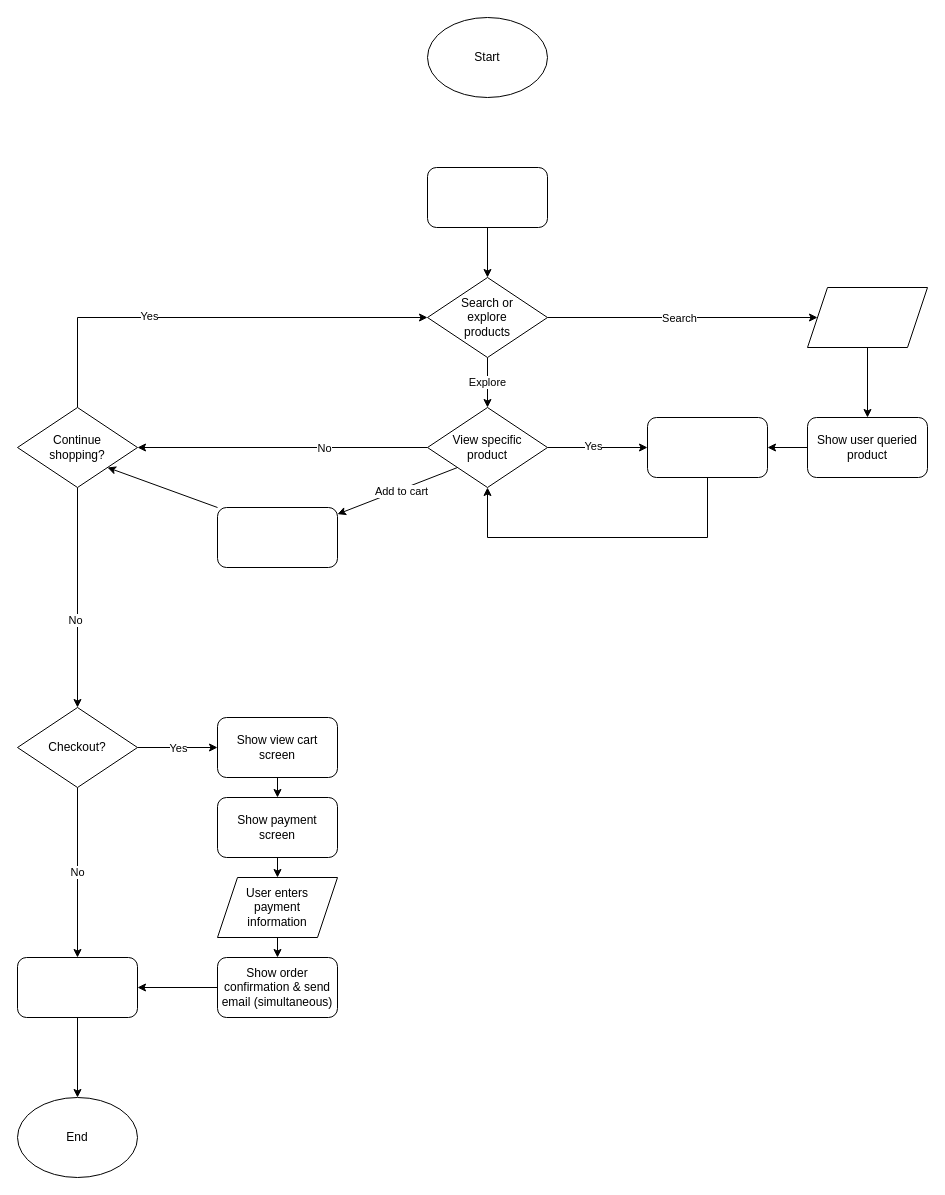
Some shapes in this 945 by 1195 pixel diagram are drawn without their labels. Here are the shapes that lost their labels. From the top down, the centre of each, then its label:
At (x=487, y=197): "User enters website".
At (x=867, y=317): "User enters search information".
At (x=707, y=447): "Open product webpage".
At (x=277, y=537): "Show added to cart confirmation".
At (x=77, y=987): "Leave website".
